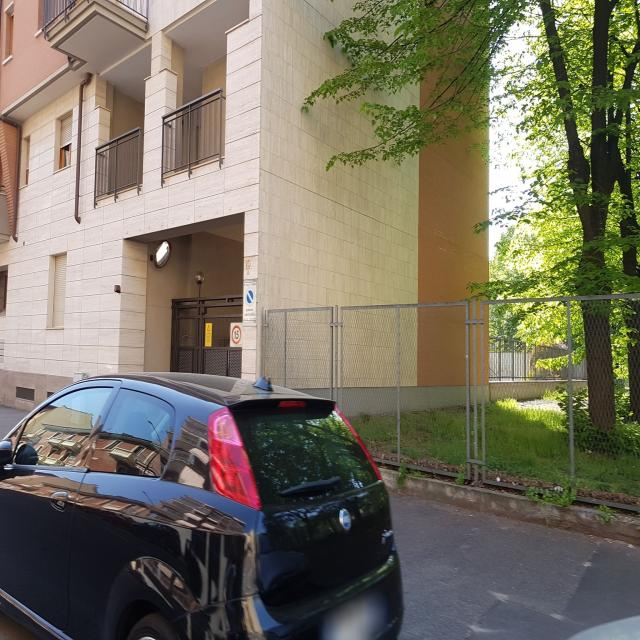car: (1, 370, 408, 640)
